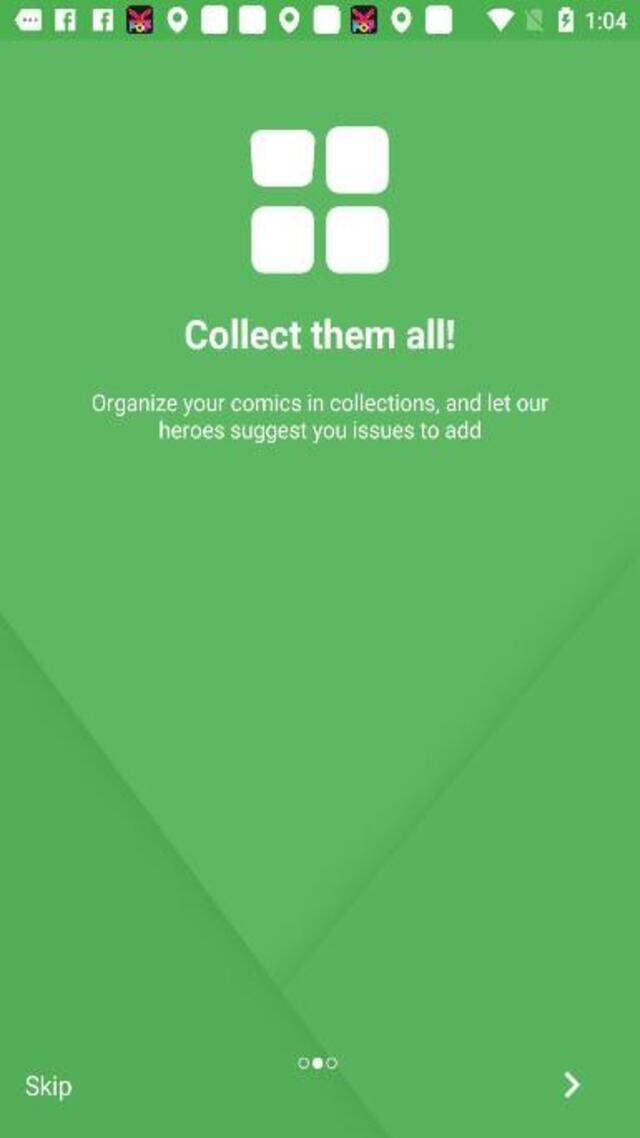Icon: (564, 1071, 580, 1098)
Image: (249, 127, 389, 275)
Text: (93, 392, 558, 417), (179, 314, 458, 355), (152, 418, 490, 446), (24, 1072, 72, 1100)
